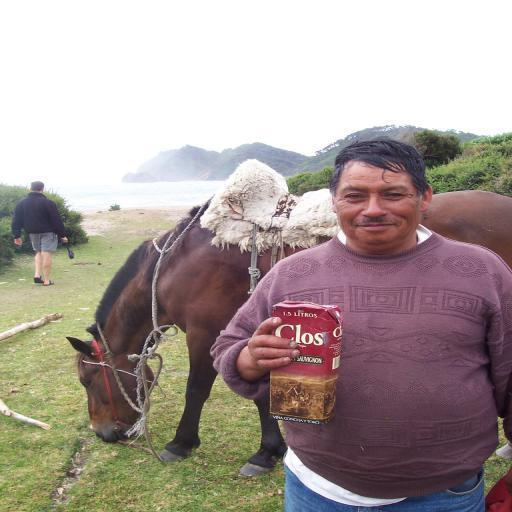horse: (65, 196, 512, 480)
